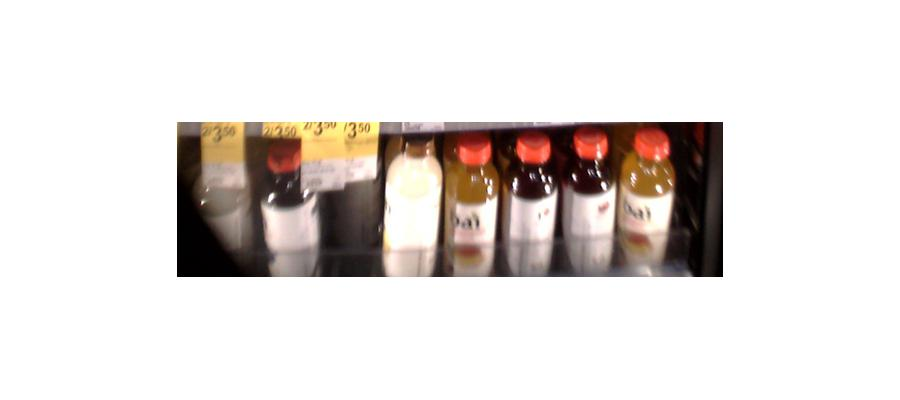bottle: (381, 128, 439, 278), (258, 132, 319, 273), (498, 137, 557, 278), (196, 123, 256, 260), (441, 137, 500, 276), (561, 134, 618, 277), (618, 134, 676, 273)
